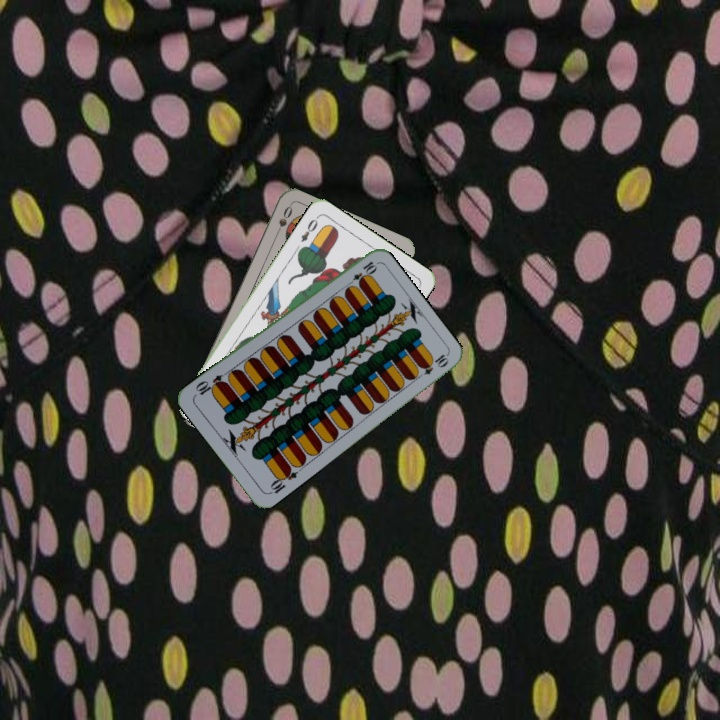E10: (265, 463, 300, 497), (343, 257, 379, 289)
EO: (297, 212, 321, 245)
SO: (272, 202, 295, 240)
